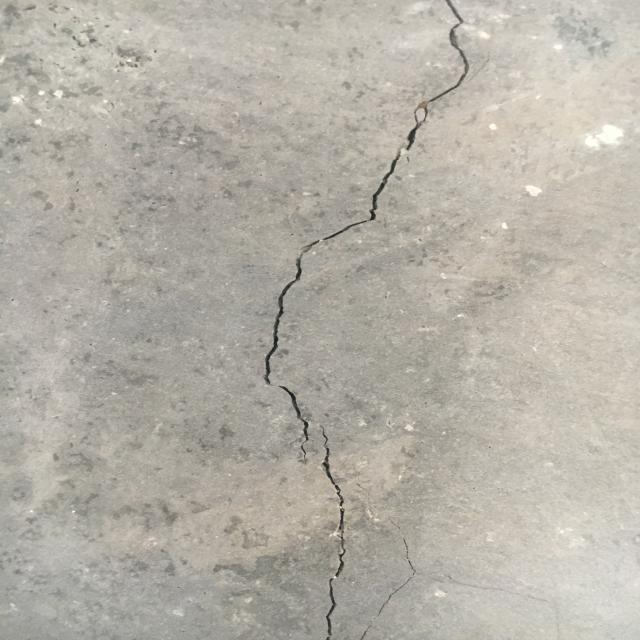Rachadura: (260, 0, 471, 462), (316, 421, 348, 640)
